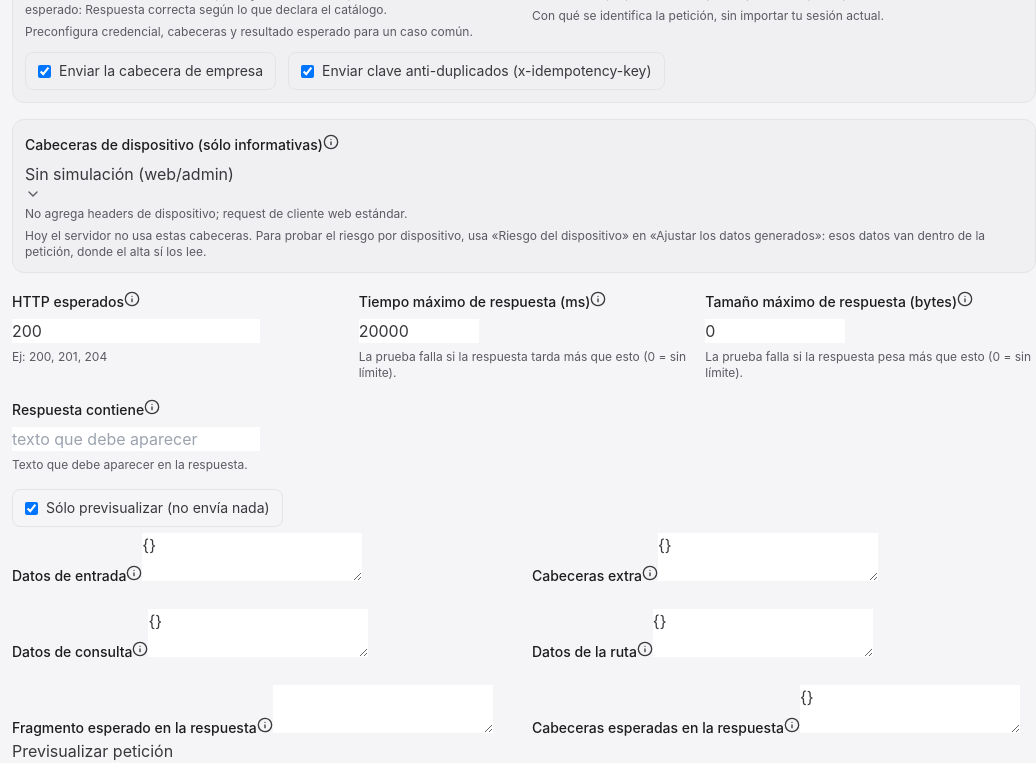
Test: EndpointTestCard · el botón dice lo que va a pasar › al apagar el dry-run avisa de que la ejecución es real
(page scrolled)
Step 1. Click the checkbox labelled "Sólo previsualizar (no envía nada)" → (32, 508), box [25,502,38,514]
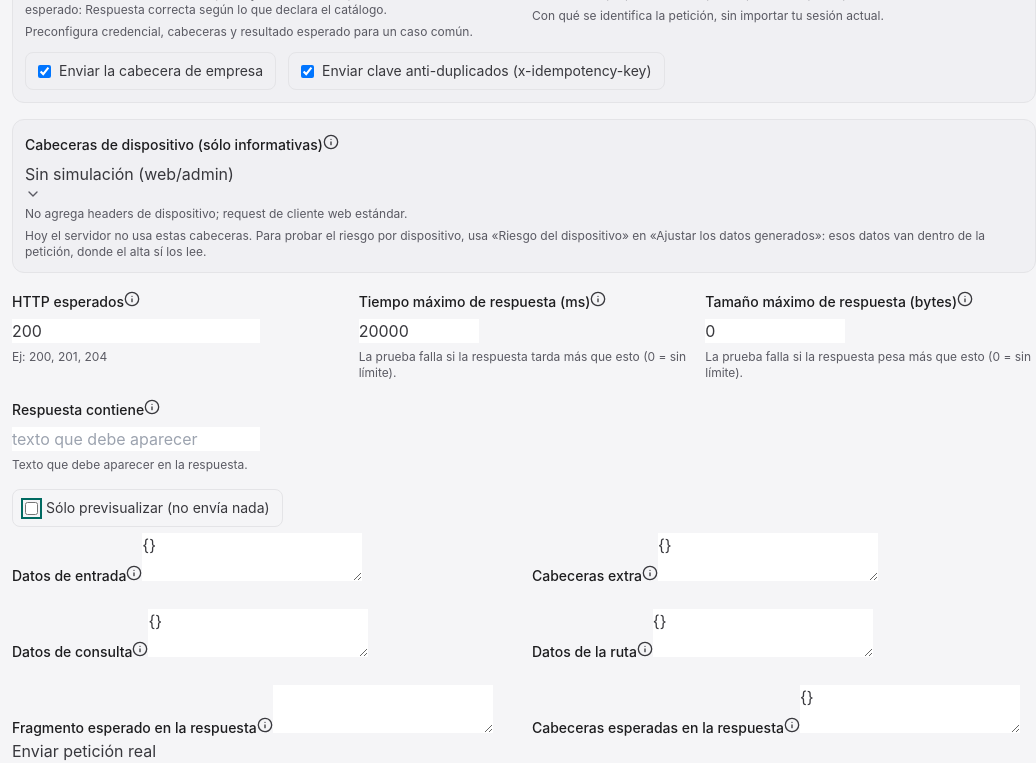
Result: the button "Enviar petición real" is shown at [12,739,156,762]
